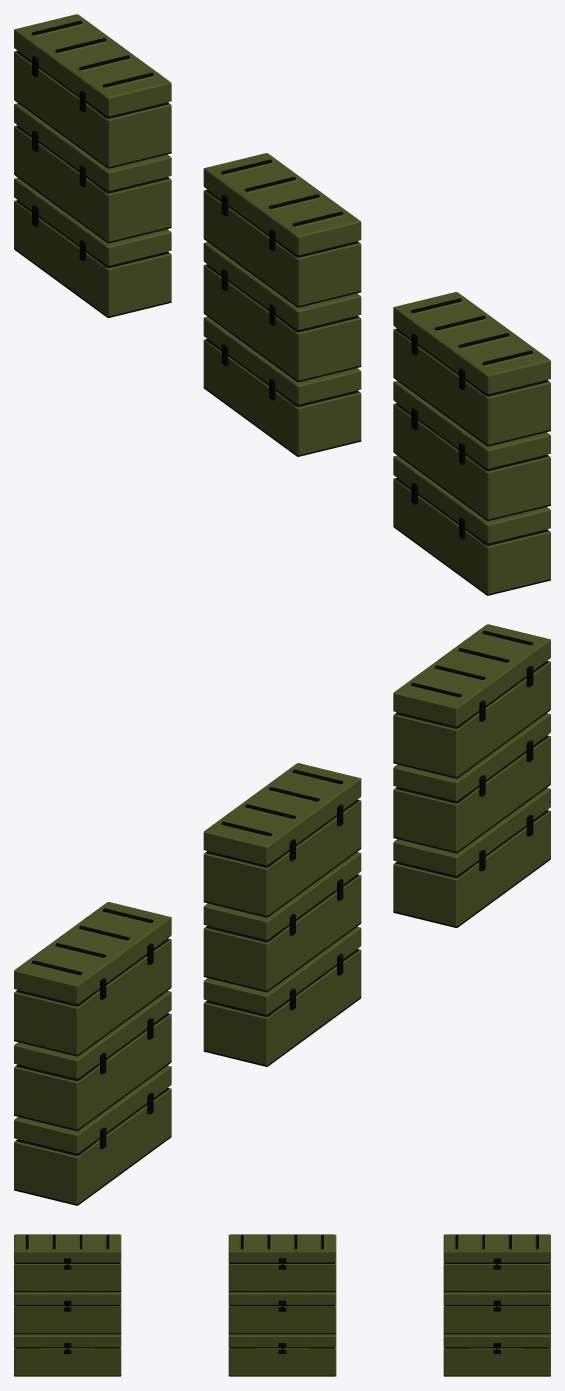
The model's file is MilitaryCrate 1.fbx.
The picture shows the model from 3 angles, top to bottom: view 1: azimuth 30°, elevation 25°; view 2: azimuth 150°, elevation 25°; view 3: azimuth 270°, elevation 25°; orthographic projection. The views are drawn at different scales.
Visible parts, largest first — view 1: MilitaryCrate; view 2: MilitaryCrate; view 3: MilitaryCrate.
Boxes of the visible parts, x1,y1,x2,y2 form: MilitaryCrate: (14,14,550,595); MilitaryCrate: (14,624,550,1205); MilitaryCrate: (14,1234,550,1376).
Size of the model in its own units: 86.41 by 261 by 1000.
